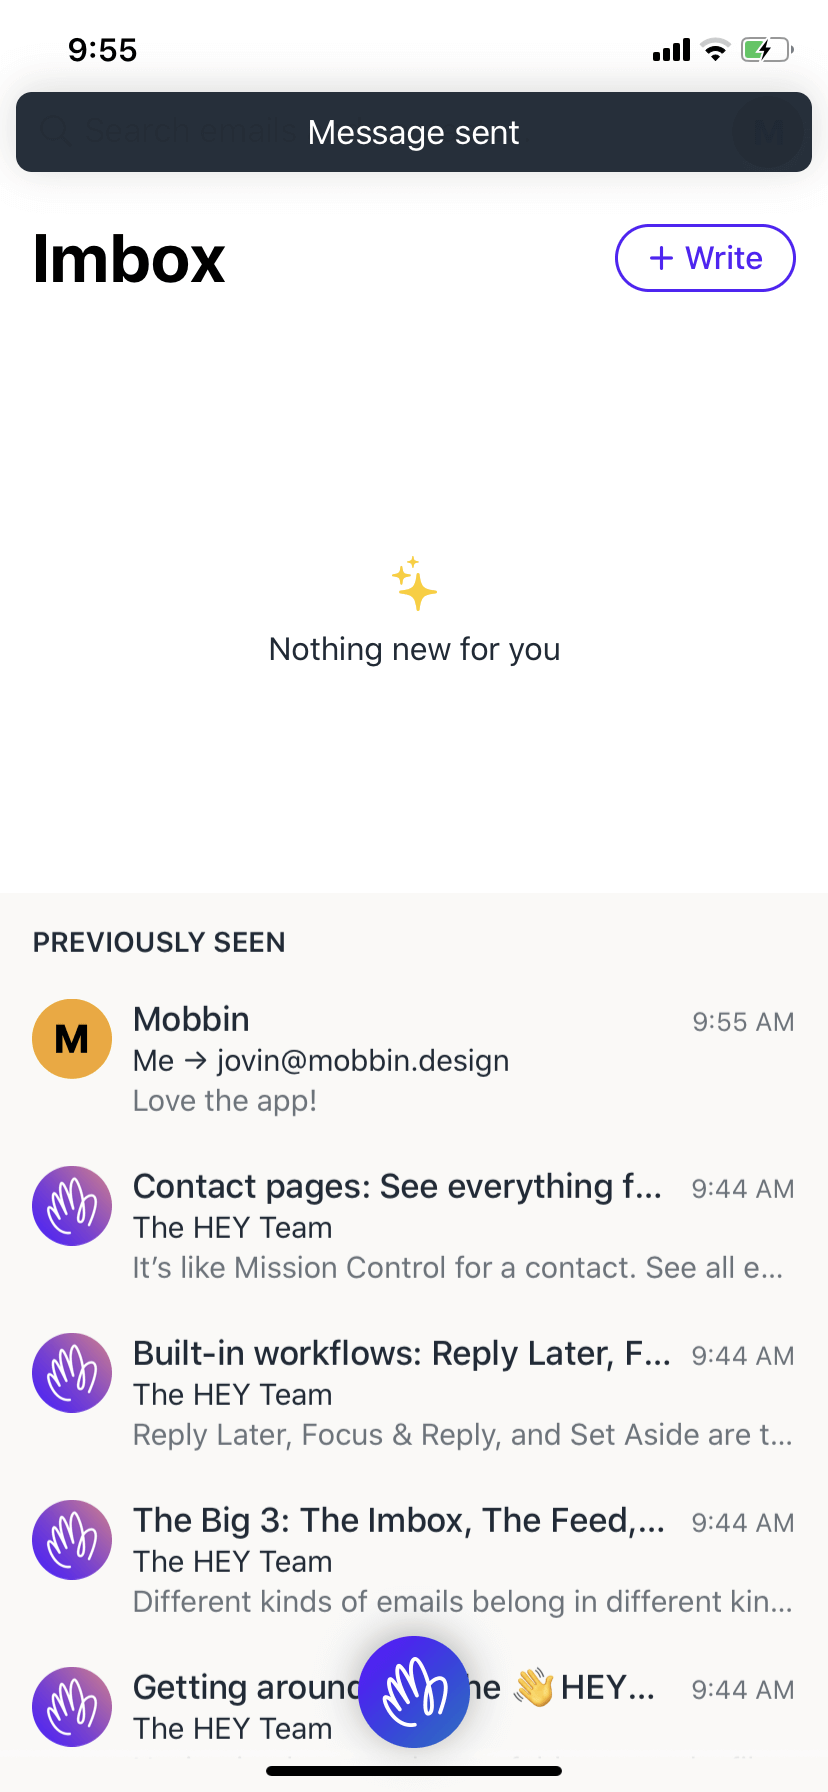Buttons: (14, 83, 819, 189), (604, 211, 801, 311)
FAB (Floating Action Button): (339, 1621, 487, 1754)
